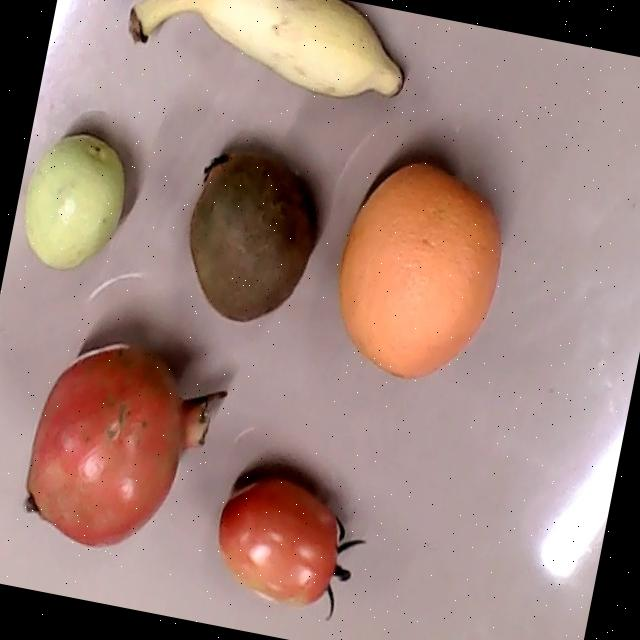kiwi: (188, 151, 310, 324)
lemon: (23, 132, 126, 269)
orange: (338, 162, 502, 376)
pomegranate: (25, 343, 227, 547)
tomato: (219, 477, 367, 621)
